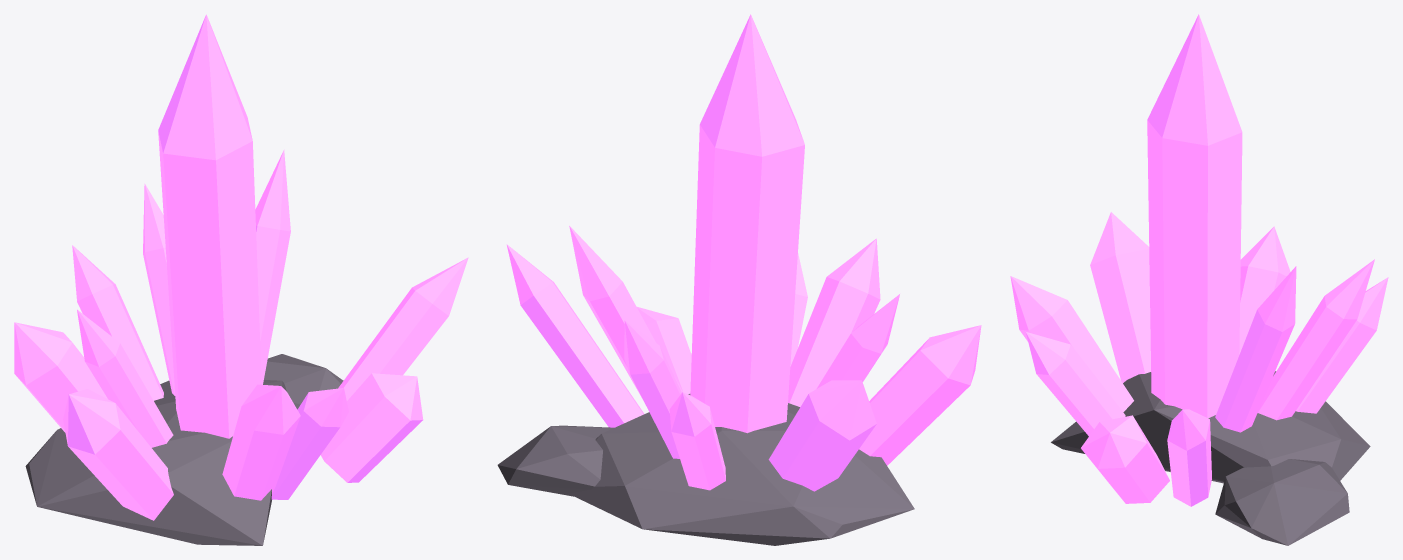
The model's file is Crystal_ClusterLarge_Purple.glb.
3 views of the same model, side by side, from view 1: azimuth 30°, elevation 25°; view 2: azimuth 150°, elevation 25°; view 3: azimuth 270°, elevation 25° (orthographic). The views are drawn at different scales.
Parts seen in each view (by area): view 1: Crystal_ClusterLarge_purple; view 2: Crystal_ClusterLarge_purple; view 3: Crystal_ClusterLarge_purple.
Part boxes in pixels (x1,y1,x2,y2): Crystal_ClusterLarge_purple: (14, 14, 468, 545); Crystal_ClusterLarge_purple: (497, 14, 981, 545); Crystal_ClusterLarge_purple: (1010, 14, 1388, 545).
Bounding box in the file's own units: 1.33 × 1.37 × 1.06.
